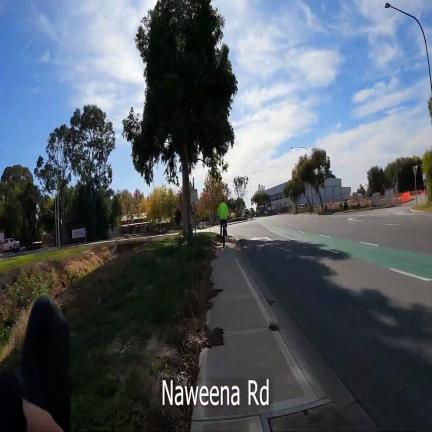Green_Bike_Lane: (264, 222, 432, 281)
